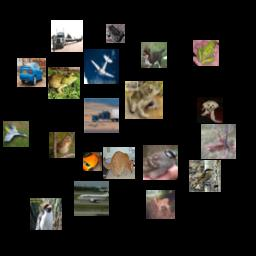airplane: (84, 49, 119, 84), (74, 181, 109, 216), (3, 121, 29, 147)
automobile: (17, 58, 46, 87), (83, 152, 102, 171)
bird: (143, 145, 178, 180), (189, 160, 221, 192), (30, 198, 62, 230), (49, 132, 75, 158)
cat: (103, 147, 135, 179)
deer: (201, 124, 236, 159), (146, 190, 175, 219)
dog: (141, 42, 167, 68), (197, 97, 223, 123)
frog: (125, 81, 163, 119), (48, 67, 80, 99), (193, 40, 219, 66), (106, 24, 125, 43)
truck: (84, 98, 119, 133), (51, 20, 83, 52)
